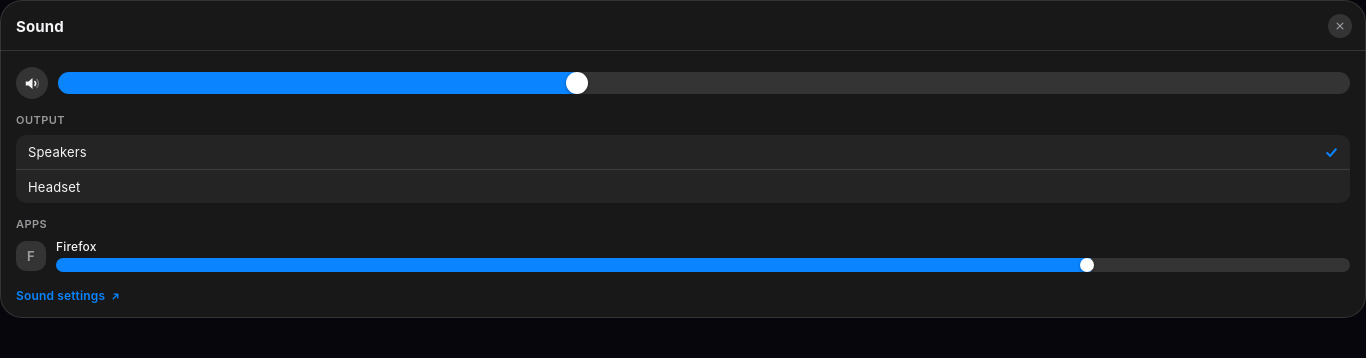
Test: an output that can't be switched goes back and links to Settings
Click the radio button labelled "Headset" at [54, 186], box [16,169,1350,203]
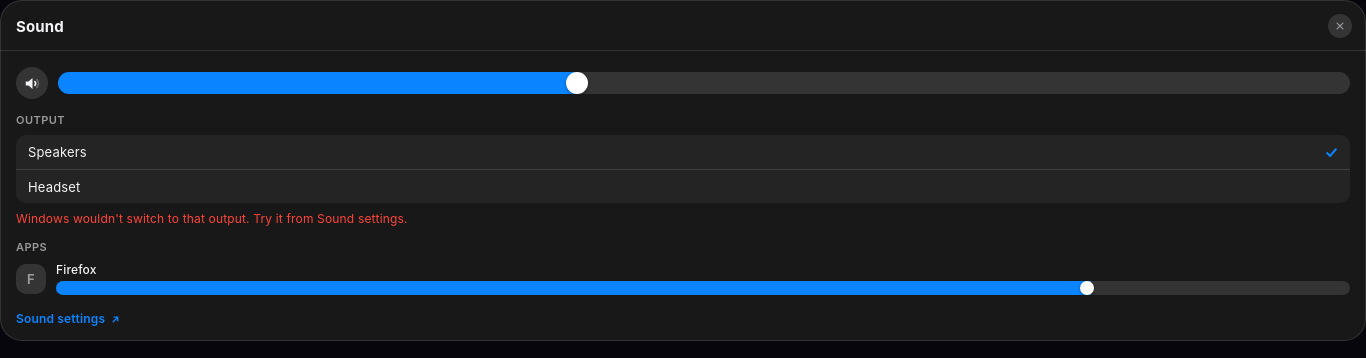
Result: the text "Windows wouldn't switch" is shown at [16,211,408,226]
